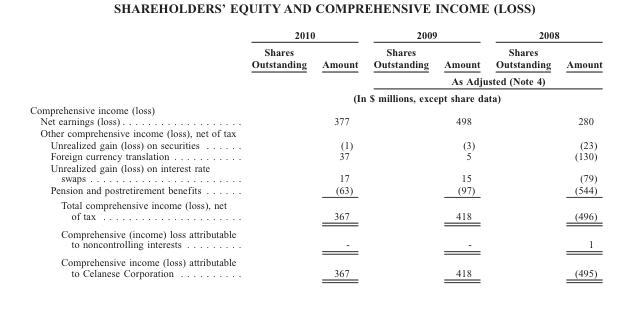table: (29, 28, 601, 277)
table column: (29, 28, 243, 277), (243, 28, 313, 277), (365, 28, 435, 277), (487, 28, 557, 277), (313, 28, 365, 277), (435, 28, 487, 277), (557, 28, 601, 277)
table column header: (29, 28, 601, 103)
table projected row header: (29, 103, 601, 115), (29, 126, 601, 138)
table row: (29, 42, 601, 72), (29, 224, 601, 252), (29, 197, 601, 224), (29, 252, 601, 277), (29, 161, 601, 183), (29, 72, 601, 89), (29, 28, 601, 42), (29, 89, 601, 103), (29, 183, 601, 197), (29, 103, 601, 115), (29, 126, 601, 138), (29, 138, 601, 150), (29, 115, 601, 126), (29, 150, 601, 161)
table spanning cell: (243, 89, 601, 103), (365, 72, 601, 89), (243, 42, 313, 89), (313, 42, 365, 89), (243, 28, 365, 42), (365, 28, 487, 42), (487, 28, 601, 42)
